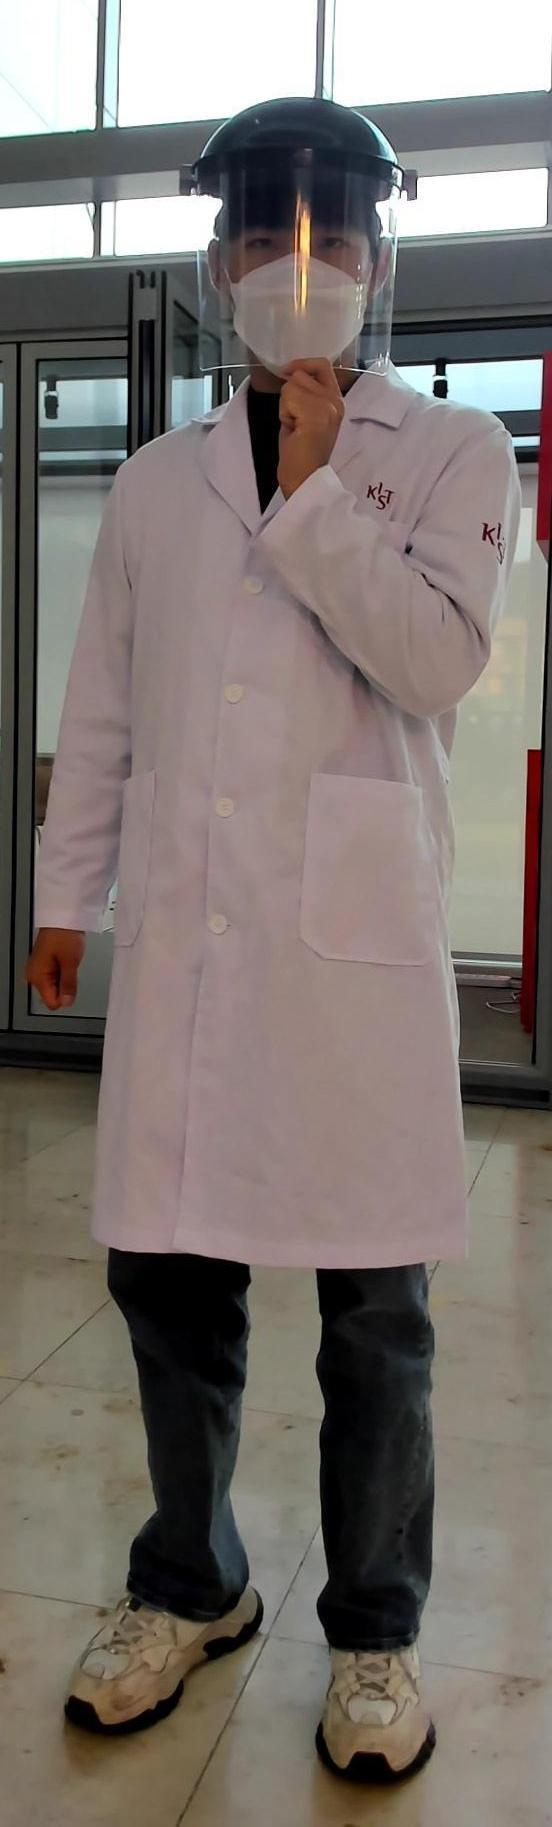lab_coat: (104, 467, 491, 1267)
